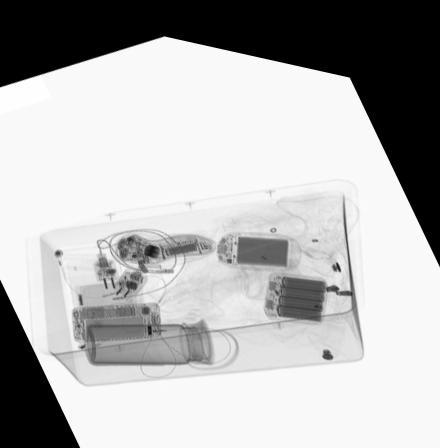Powerbank: (262, 257, 331, 312)
